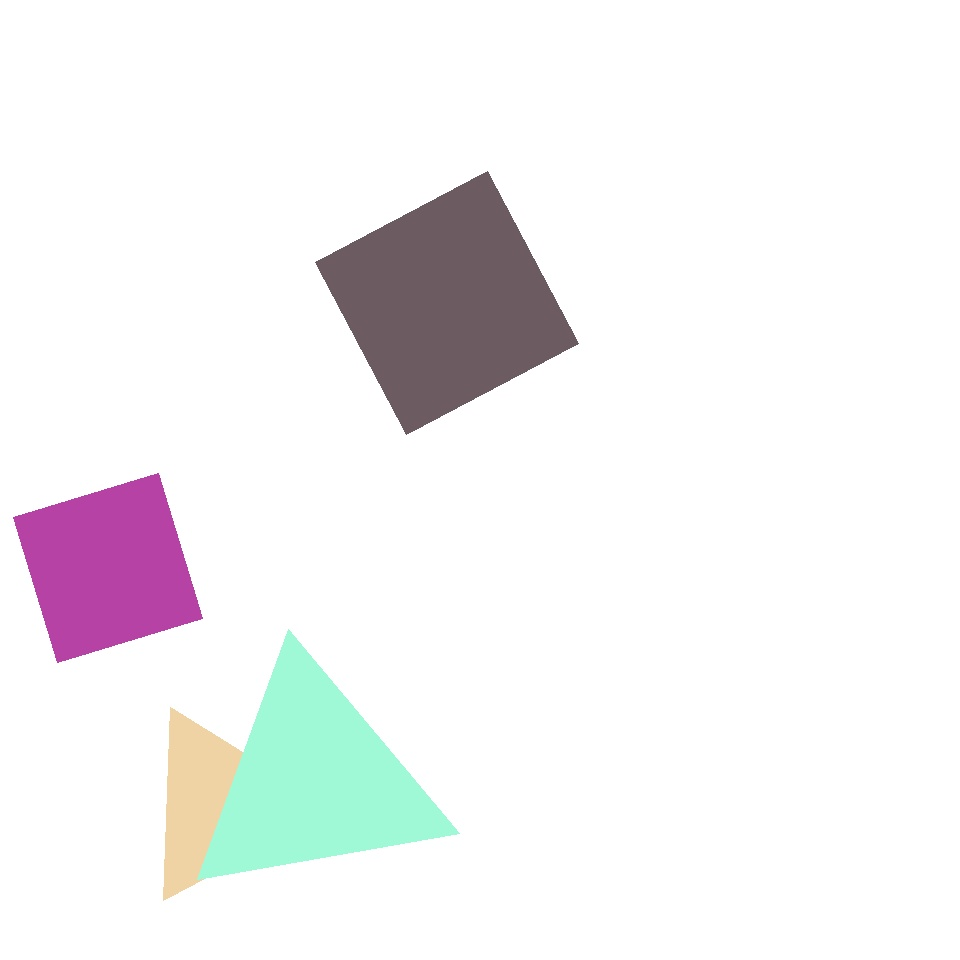circle: (184, 656, 446, 906), (138, 710, 308, 903)
square: (316, 171, 578, 434), (14, 474, 202, 662), (478, 538, 662, 722)
triangle: (113, 79, 446, 412), (444, 546, 616, 718)
